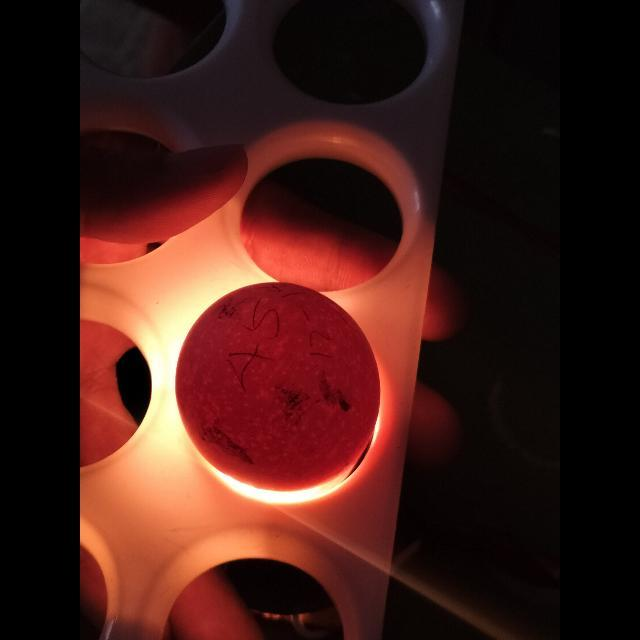Infertile: (175, 282, 382, 496)
